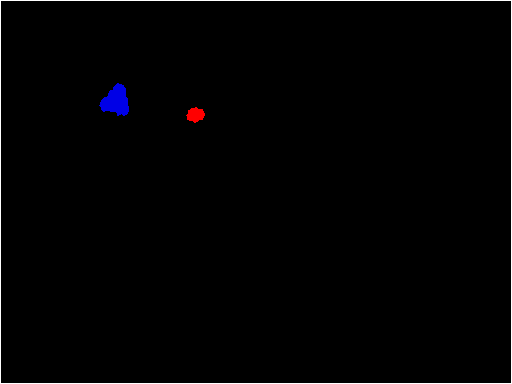chipped: (105, 87, 129, 112)
detached: (189, 106, 202, 121)
